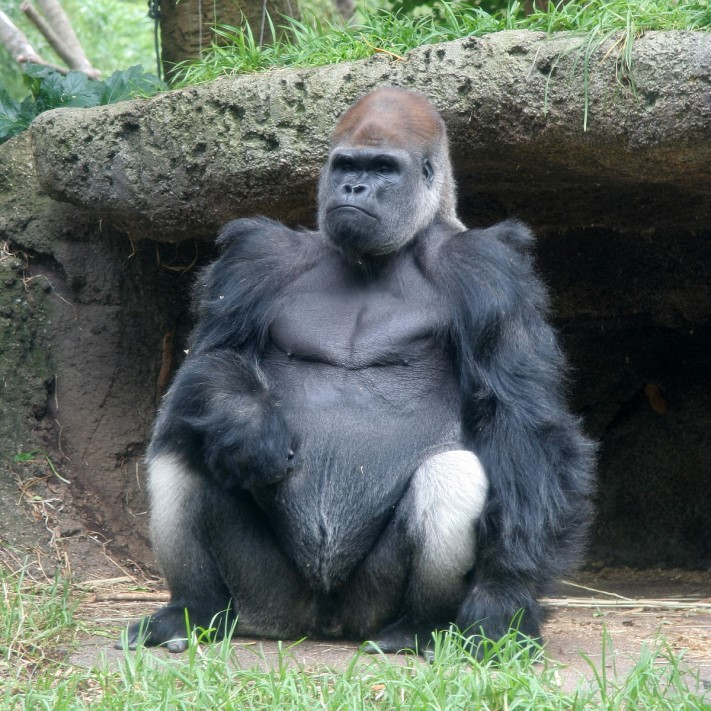Gorilla: (157, 91, 586, 647)
